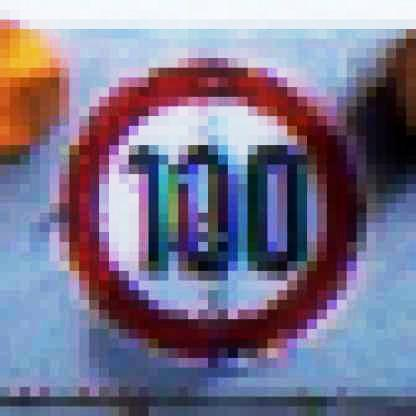Speed Limit -100-: (51, 55, 369, 366)
